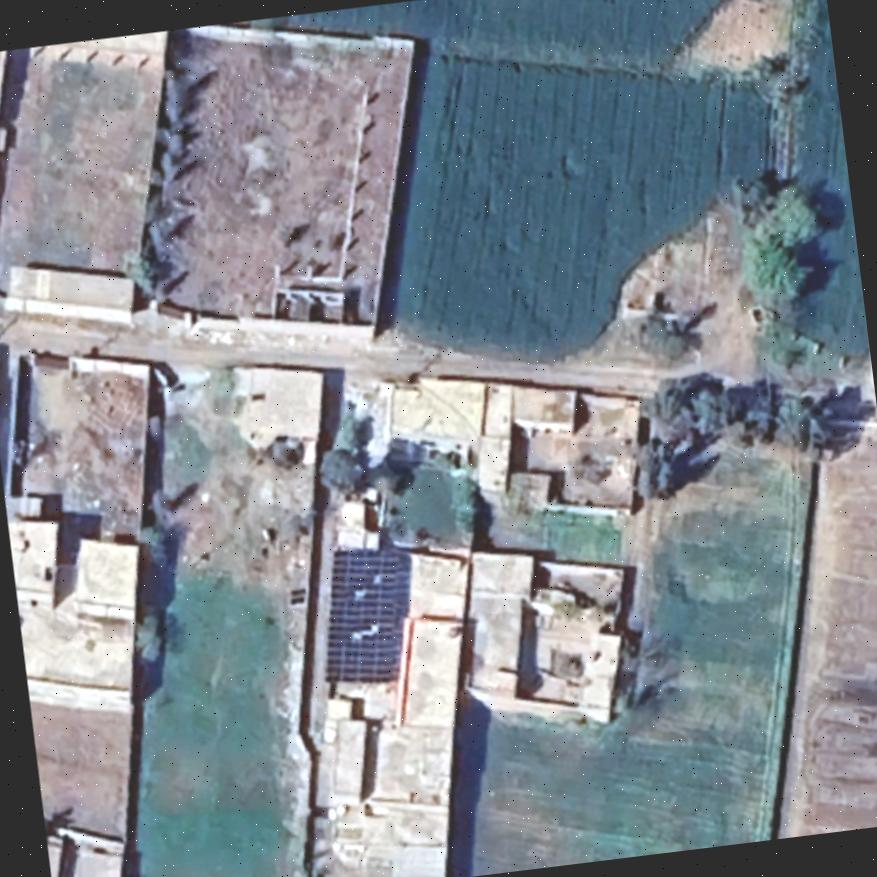Solarpanel: (328, 545, 413, 688)
